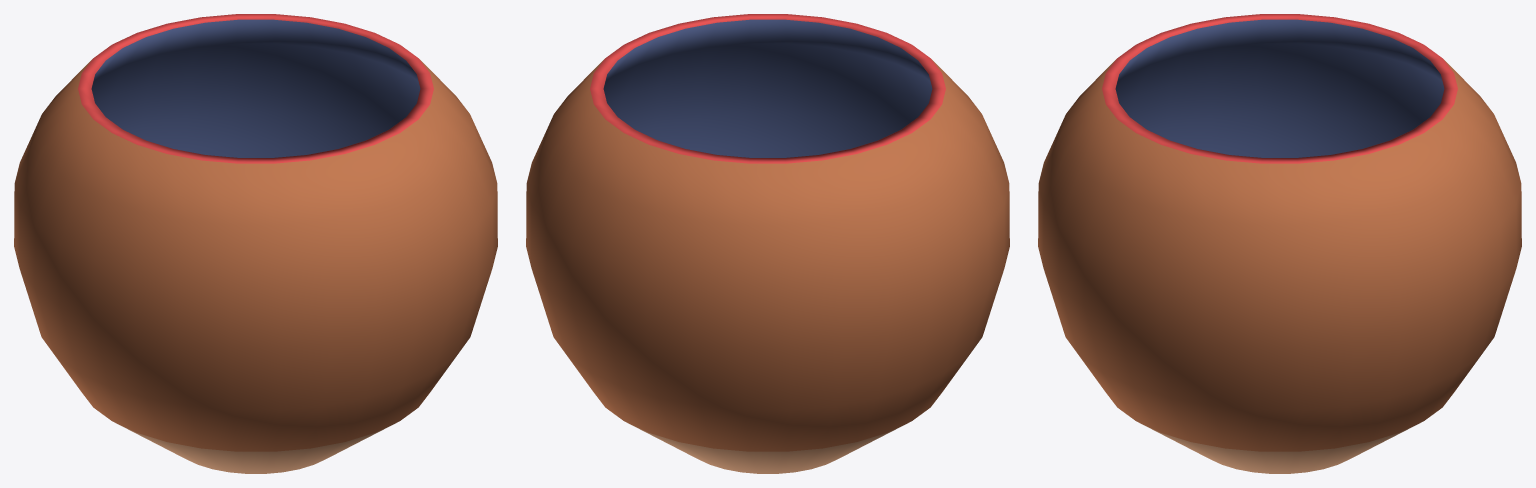
The model's file is Res01_Bowel1.fbx.
3 views of the same model, side by side, from view 1: azimuth 30°, elevation 25°; view 2: azimuth 150°, elevation 25°; view 3: azimuth 270°, elevation 25° (orthographic).
Visible parts, largest first — view 1: Res01_Bowel1; view 2: Res01_Bowel1; view 3: Res01_Bowel1.
Part boxes in pixels (box(x1,y1,x2,y2)): Res01_Bowel1: box(14, 14, 497, 473); Res01_Bowel1: box(526, 14, 1009, 473); Res01_Bowel1: box(1038, 14, 1521, 473).
Bounding box in the file's own units: 37.36 × 29.87 × 37.56.
